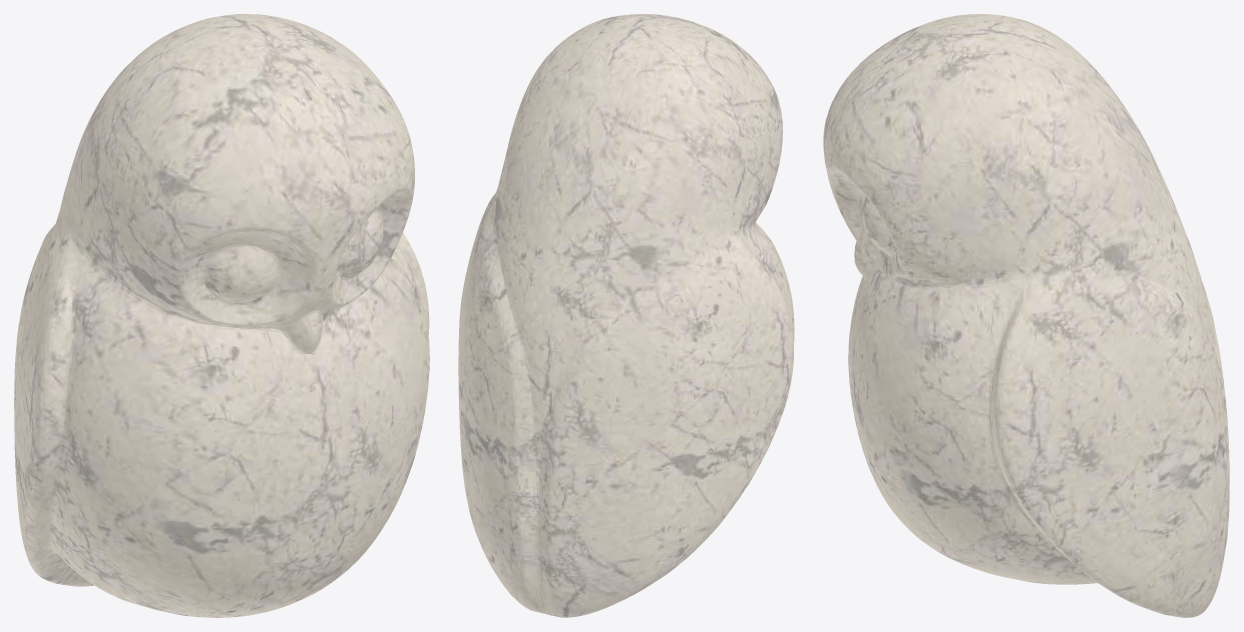
The model's file is sculpture-owl.glb.
3 views of the same model, side by side, from view 1: azimuth 30°, elevation 25°; view 2: azimuth 150°, elevation 25°; view 3: azimuth 270°, elevation 25° (orthographic). The views are drawn at different scales.
Parts seen in each view (by area): view 1: sculpture_owl; view 2: sculpture_owl; view 3: sculpture_owl.
Boxes of the visible parts, x1,y1,x2,y2 form: sculpture_owl: (14,14,429,617); sculpture_owl: (458,14,794,617); sculpture_owl: (823,14,1229,617).
Bounding box in the file's own units: 1.25 × 1.96 × 1.25.
Materials: 1 (1 with a texture image).
